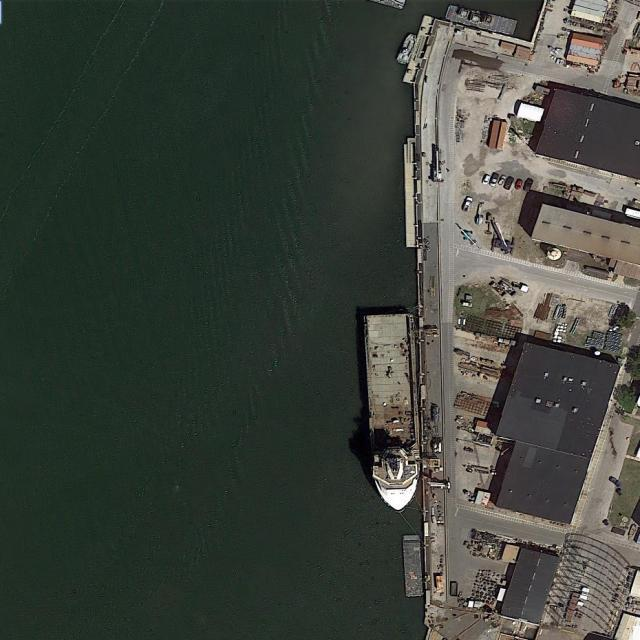Cargo: (360, 310, 427, 514)
